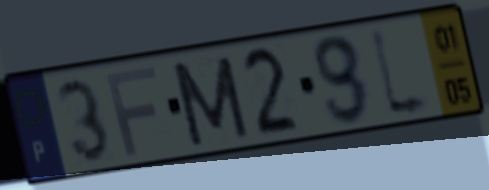2: (241, 43, 305, 141)
3: (55, 74, 113, 164)
9: (309, 31, 375, 128)
F: (102, 62, 161, 159)
L: (365, 20, 439, 124)
M: (167, 51, 254, 150)
